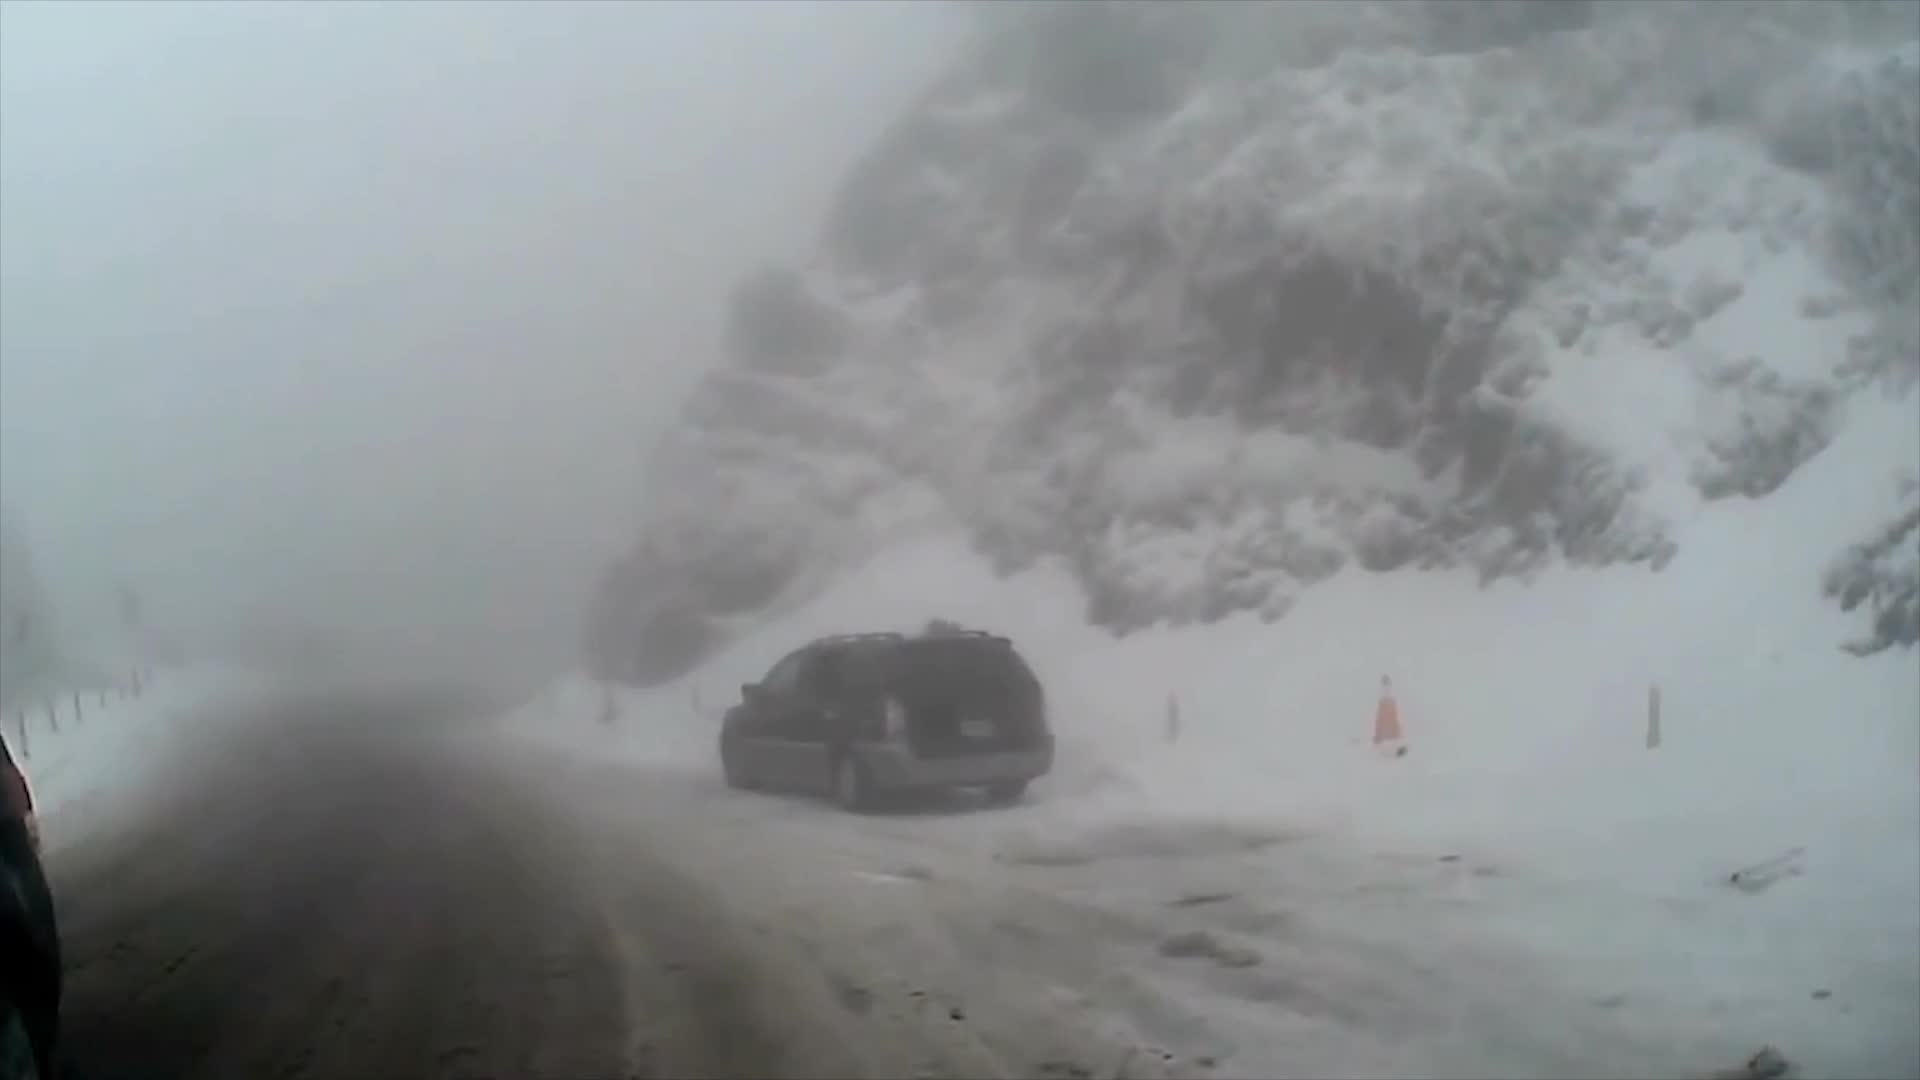vehicle: (717, 632, 1054, 814), (0, 731, 69, 1079)
